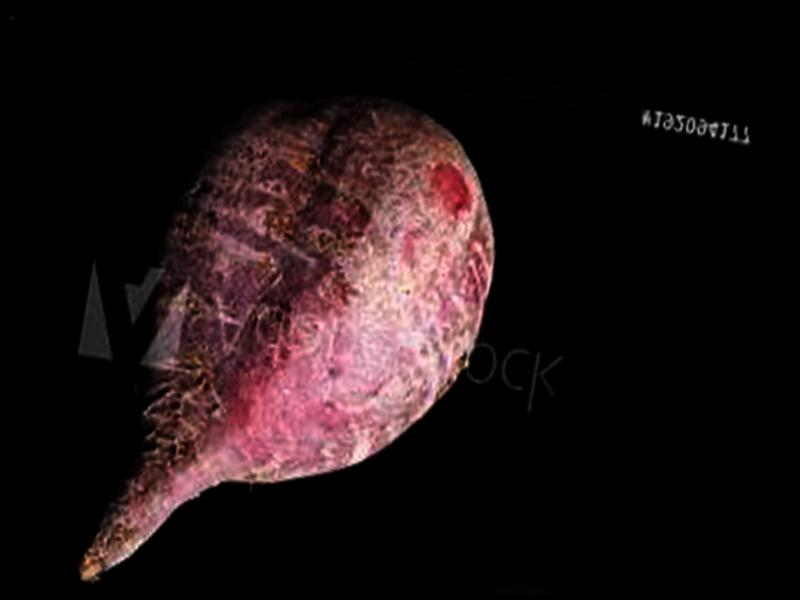Beet: (80, 66, 521, 600)
